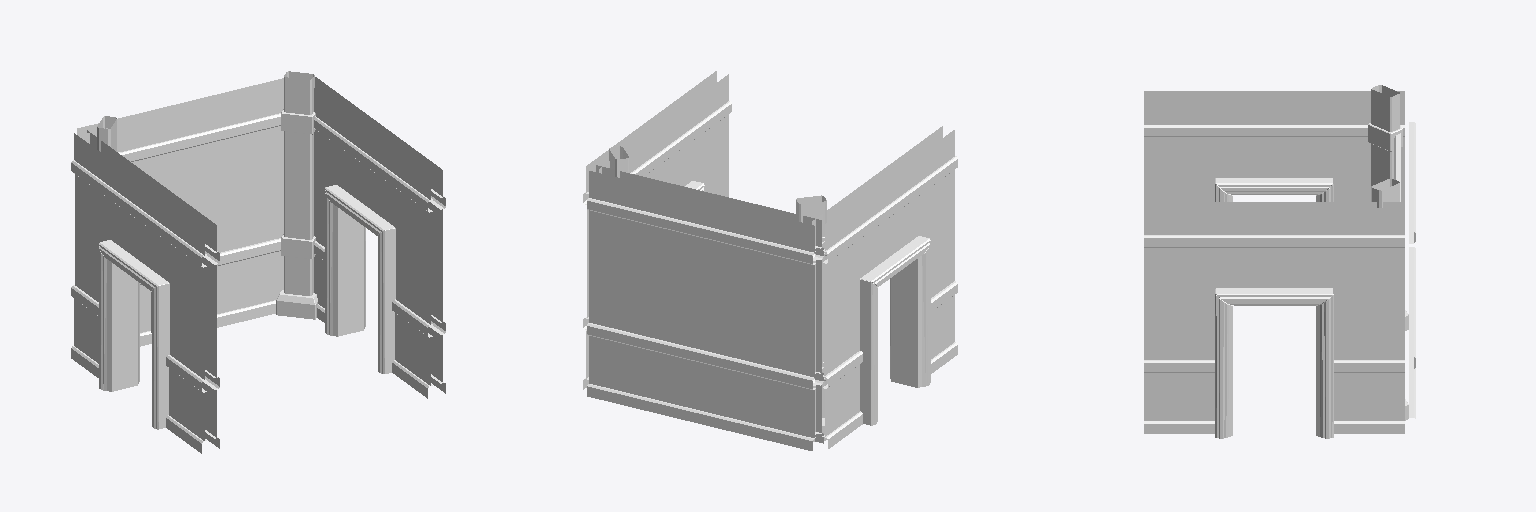
File: Prefab_06.obj
The picture shows the model from 3 angles: view 1: azimuth 30°, elevation 25°; view 2: azimuth 150°, elevation 25°; view 3: azimuth 270°, elevation 25°; orthographic projection.
Parts seen in each view (by area): view 1: Object004, Object005, Object002, Object006, Object003, Box002, Box003; view 2: Object004, Object005, Object002, Object006, Box003; view 3: Object002, Object005, Object003, Box003, Object004, Object006, Box002.
Part boxes in pixels (bbox=[...]): Object004: bbox=[77, 78, 283, 346]; Object005: bbox=[71, 130, 219, 453]; Object002: bbox=[314, 77, 445, 398]; Object006: bbox=[99, 240, 169, 429]; Object003: bbox=[325, 185, 395, 373]; Box002: bbox=[276, 71, 317, 319]; Box003: bbox=[97, 116, 119, 153]; Object004: bbox=[587, 165, 823, 450]; Object005: bbox=[812, 126, 957, 448]; Object002: bbox=[583, 71, 731, 389]; Object006: bbox=[860, 236, 930, 425]; Box003: bbox=[796, 195, 827, 441]; Object002: bbox=[1144, 202, 1404, 433]; Object005: bbox=[1144, 91, 1404, 201]; Object003: bbox=[1215, 288, 1333, 438]; Box003: bbox=[1368, 85, 1408, 330]; Object004: bbox=[1394, 122, 1415, 418]; Object006: bbox=[1215, 178, 1333, 201]; Box002: bbox=[1371, 179, 1408, 420].
Bounding box in the file's own units: 468 × 400 × 416.